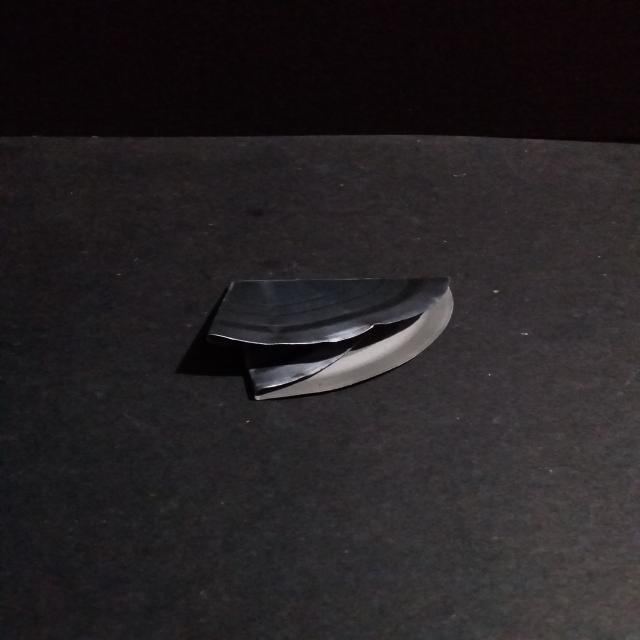metal-can: (208, 272, 460, 406)
